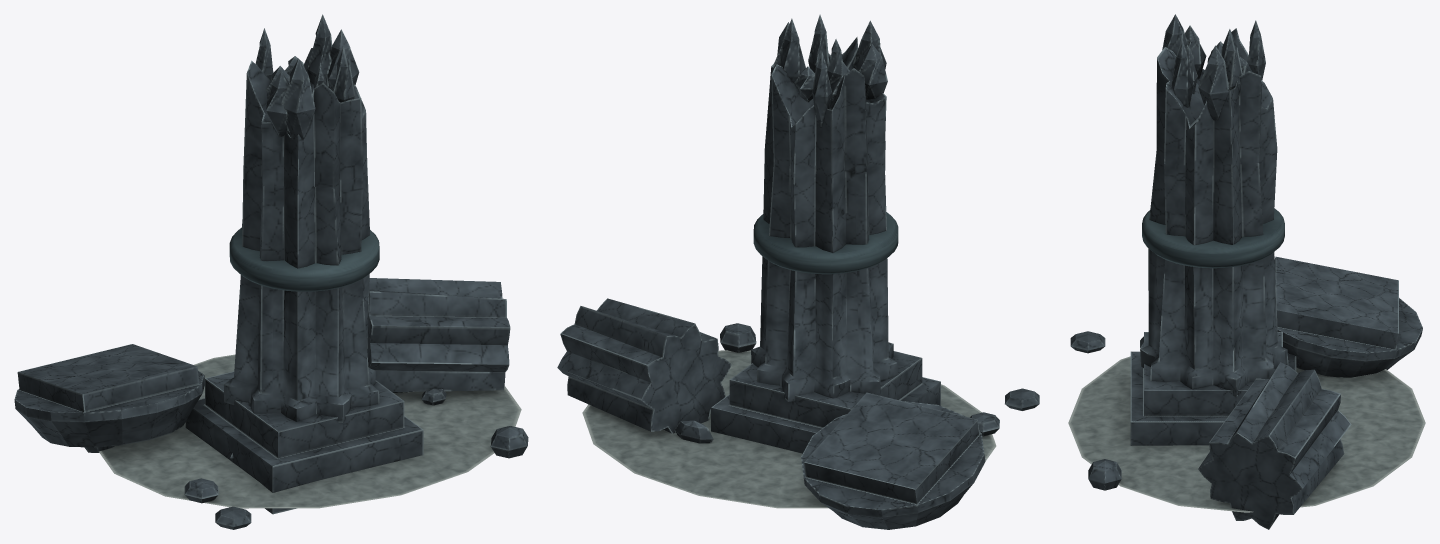
Rendered from underworld-flora-blackwater-broken-column.glb.
3 views of the same model, side by side, from view 1: azimuth 30°, elevation 25°; view 2: azimuth 150°, elevation 25°; view 3: azimuth 270°, elevation 25° (orthographic). The views are drawn at different scales.
Parts seen in each view (by area): view 1: shaft, silt, fallen-drum, plinth, capital, fracture, band, rubble; view 2: shaft, capital, fallen-drum, silt, plinth, fracture, band, rubble; view 3: shaft, silt, fallen-drum, capital, plinth, fracture, band, rubble.
Part boxes in pixels (x1,y1,x2,y2): shaft: (224,48,379,422); silt: (99,354,521,508); fallen-drum: (367,278,510,392); plinth: (185,371,423,514); capital: (14,344,204,447); fracture: (255,14,359,139); band: (229,227,379,291); rubble: (84,388,528,529); shaft: (751,37,897,401); capital: (801,392,985,529); fallen-drum: (557,298,731,433); silt: (582,350,996,508); plinth: (711,351,940,453); fracture: (773,14,887,126); band: (753,212,898,274); rubble: (674,323,1039,443); shaft: (1140,28,1288,396); silt: (1068,356,1425,512); fallen-drum: (1198,362,1351,529); capital: (1274,256,1422,377); plinth: (1130,332,1296,445); fracture: (1162,14,1265,120); band: (1142,208,1284,268); rubble: (1070,331,1143,490).
Size of the model in its own units: 4.4 by 4.11 by 3.2.
Materials: 3 (3 with a texture image).
